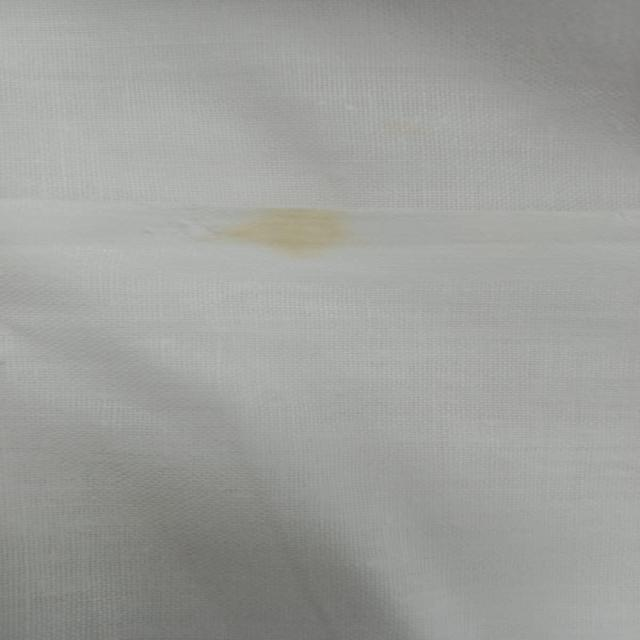stain: (186, 195, 361, 262)
